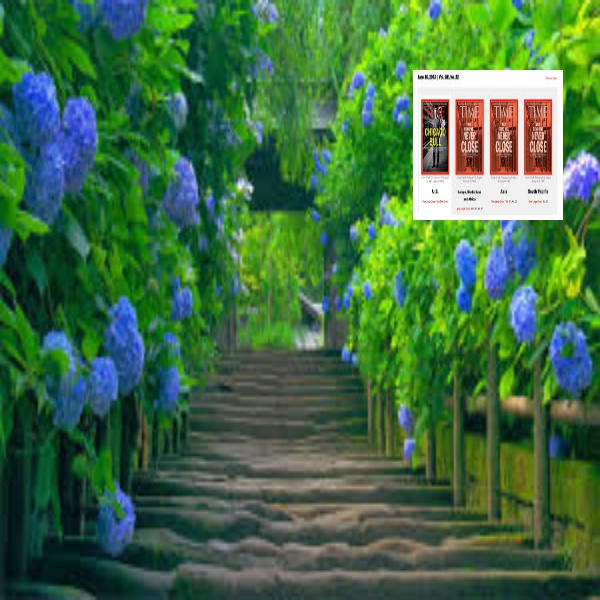time_cover: (416, 94, 451, 176), (458, 95, 487, 177), (495, 96, 521, 177), (529, 97, 553, 173)
